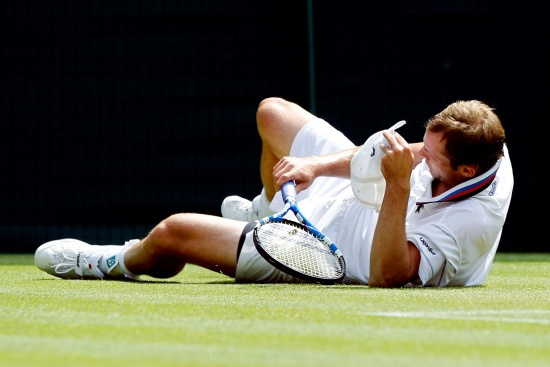falling: (30, 79, 521, 287)
